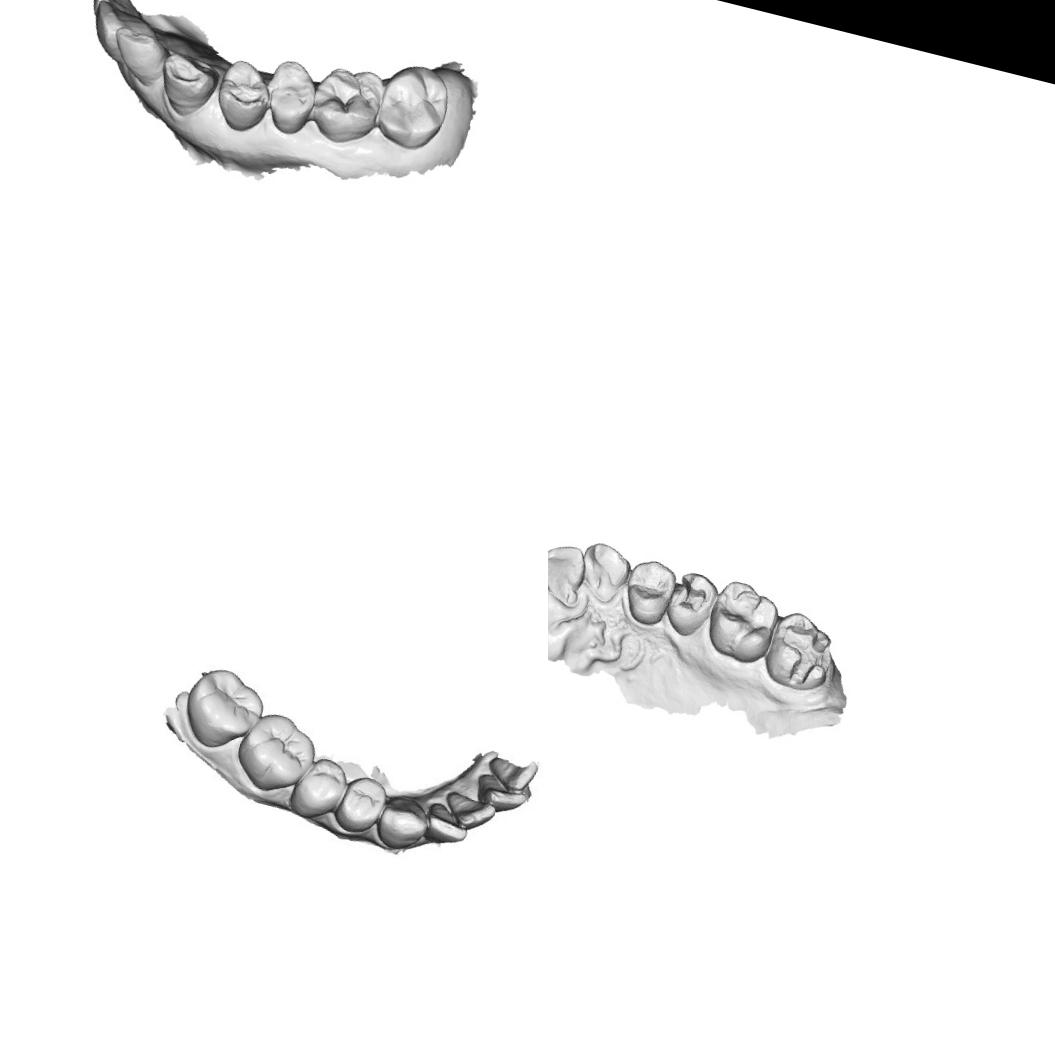canine: (151, 47, 223, 122), (573, 538, 635, 606), (371, 791, 432, 859)
incisor: (102, 22, 173, 90), (82, 0, 151, 68), (548, 536, 591, 611), (469, 768, 535, 816), (440, 788, 497, 835), (423, 797, 472, 851)
inlay: (767, 616, 836, 693), (665, 572, 710, 618)
molar: (370, 57, 455, 156), (302, 57, 388, 151), (176, 662, 267, 750), (700, 575, 785, 669), (234, 705, 318, 792)
premolar: (208, 54, 277, 137), (259, 54, 323, 138), (616, 554, 680, 630), (292, 756, 345, 826), (336, 776, 386, 835)
